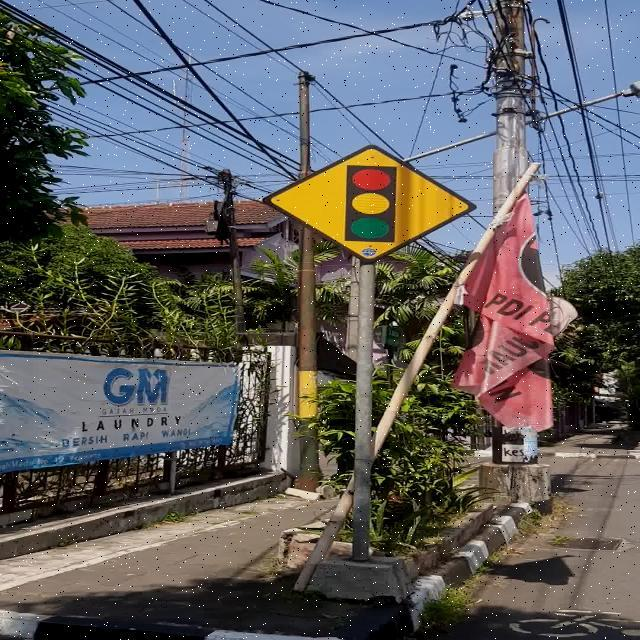Lampu Lalu Lintas: (262, 144, 478, 263)
